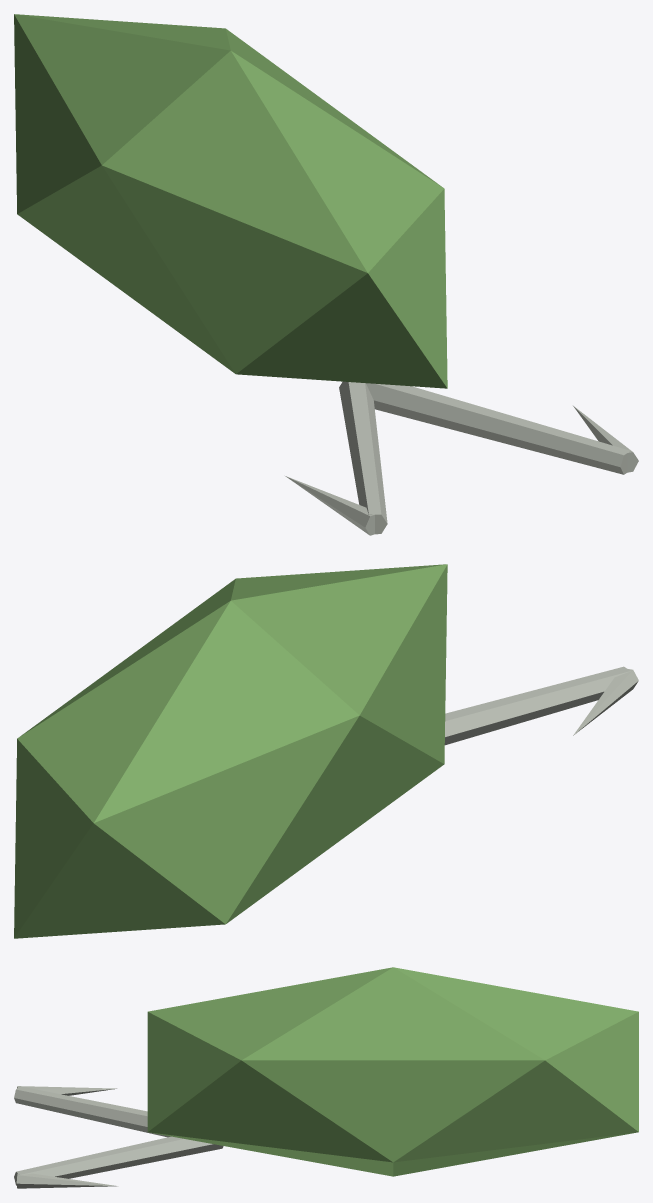
The model's file is ProfessionalLure.fbx.
3 views of the same model, one above another, from view 1: azimuth 30°, elevation 25°; view 2: azimuth 150°, elevation 25°; view 3: azimuth 270°, elevation 25° (orthographic). The views are drawn at different scales.
Visible parts, largest first — view 1: LureBody, Treble-1, Treble1, Tip1; view 2: LureBody, Treble1, Tip1; view 3: LureBody, Treble-1, Treble1, Tip-1, Tip1.
Boxes of the visible parts, x1,y1,x2,y2 form: LureBody: (14, 14, 447, 388); Treble-1: (366, 383, 630, 474); Treble1: (339, 381, 387, 534); Tip1: (285, 476, 374, 535); LureBody: (14, 564, 447, 938); Treble1: (444, 666, 630, 745); Tip1: (573, 669, 638, 735); LureBody: (147, 967, 638, 1176); Treble-1: (14, 1136, 223, 1185); Treble1: (14, 1086, 170, 1137); Tip-1: (16, 1173, 118, 1188); Tip1: (17, 1086, 116, 1095).
Size of the model in its own units: 0.08 by 0.08 by 0.2164.
